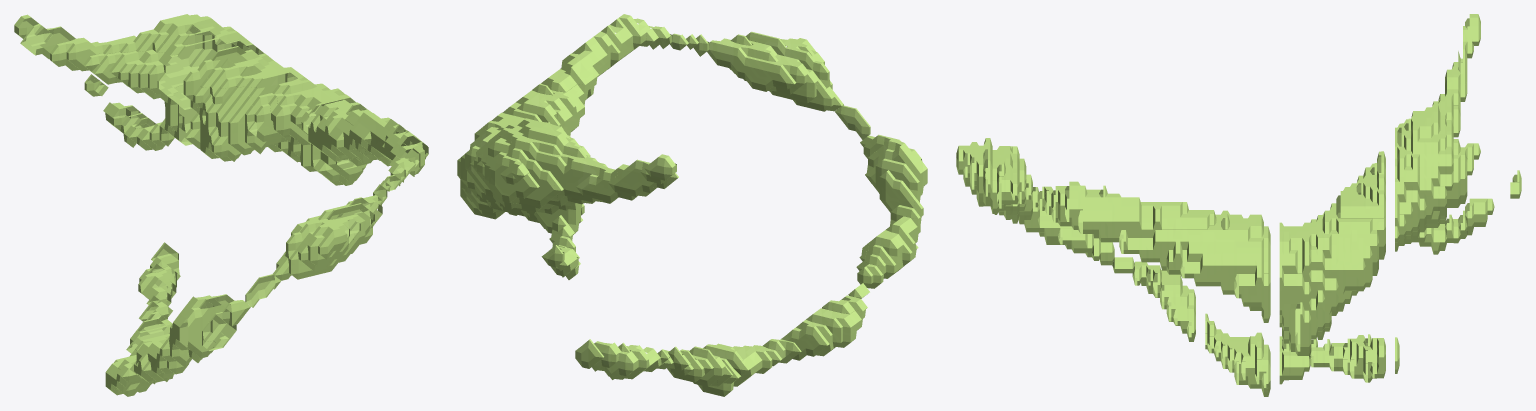
The model's file is SVV_URAVL.gltf.
The picture shows the model from 3 angles, left to right: view 1: azimuth 30°, elevation 25°; view 2: azimuth 150°, elevation 25°; view 3: azimuth 270°, elevation 25°; orthographic projection. The views are drawn at different scales.
Parts seen in each view (by area): view 1: URAVL; view 2: URAVL; view 3: URAVL.
Part boxes in pixels (x1,y1,x2,y2): URAVL: [14, 14, 428, 396]; URAVL: [457, 14, 927, 396]; URAVL: [956, 14, 1521, 396].
Bounding box in the file's own units: 25104 × 22022 × 32017.
